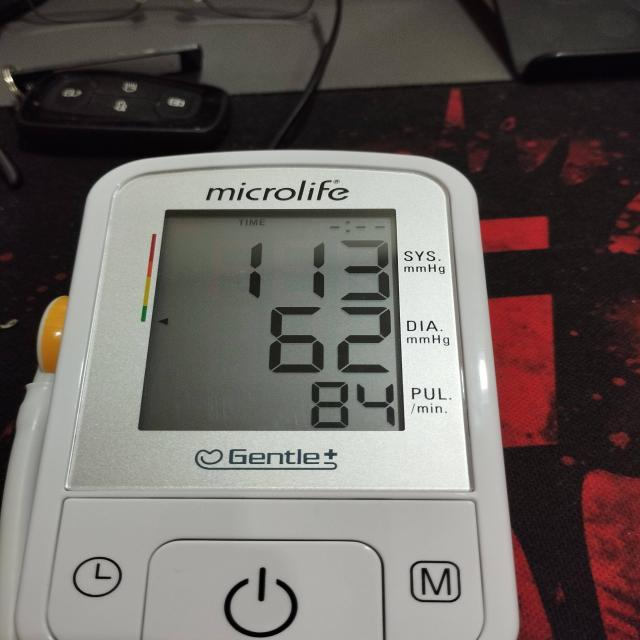bp: (0, 150, 522, 640)
